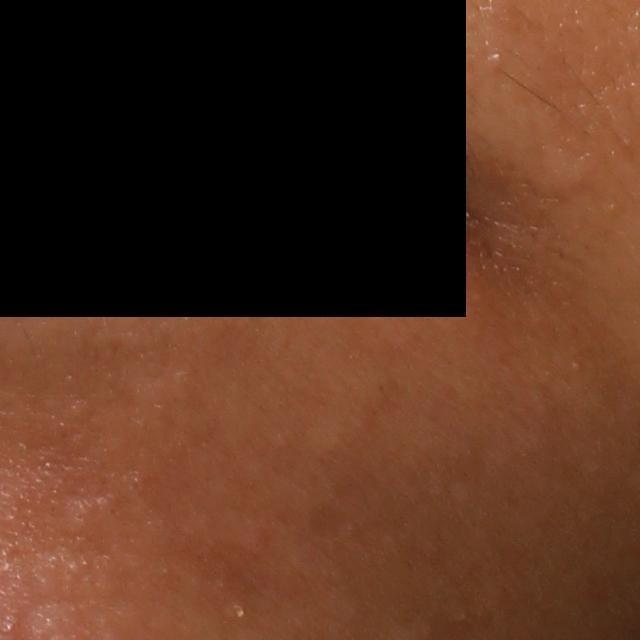comedo: (484, 49, 506, 67)
